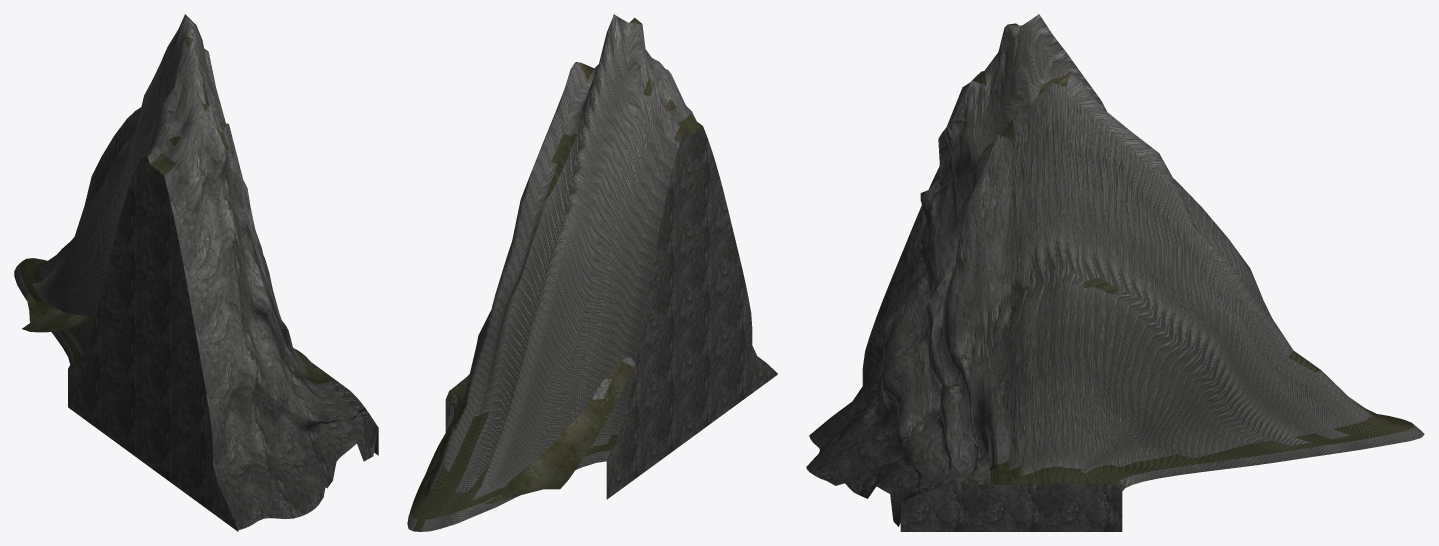
Rendered from seacliff_endcap_right_h8_a_v5_summer.glb.
3 views of the same model, side by side, from view 1: azimuth 30°, elevation 25°; view 2: azimuth 150°, elevation 25°; view 3: azimuth 270°, elevation 25° (orthographic). The views are drawn at different scales.
Parts seen in each view (by area): view 1: seacliff_endcap_right_h8_a; view 2: seacliff_endcap_right_h8_a; view 3: seacliff_endcap_right_h8_a.
Part boxes in pixels (left/top/right/bottom): seacliff_endcap_right_h8_a: left=14, top=14, right=378, bottom=531; seacliff_endcap_right_h8_a: left=407, top=14, right=777, bottom=531; seacliff_endcap_right_h8_a: left=806, top=14, right=1424, bottom=531.
Bounding box in the file's own units: 6 × 13.31 × 16.52.
Materials: 2 (2 with a texture image).
